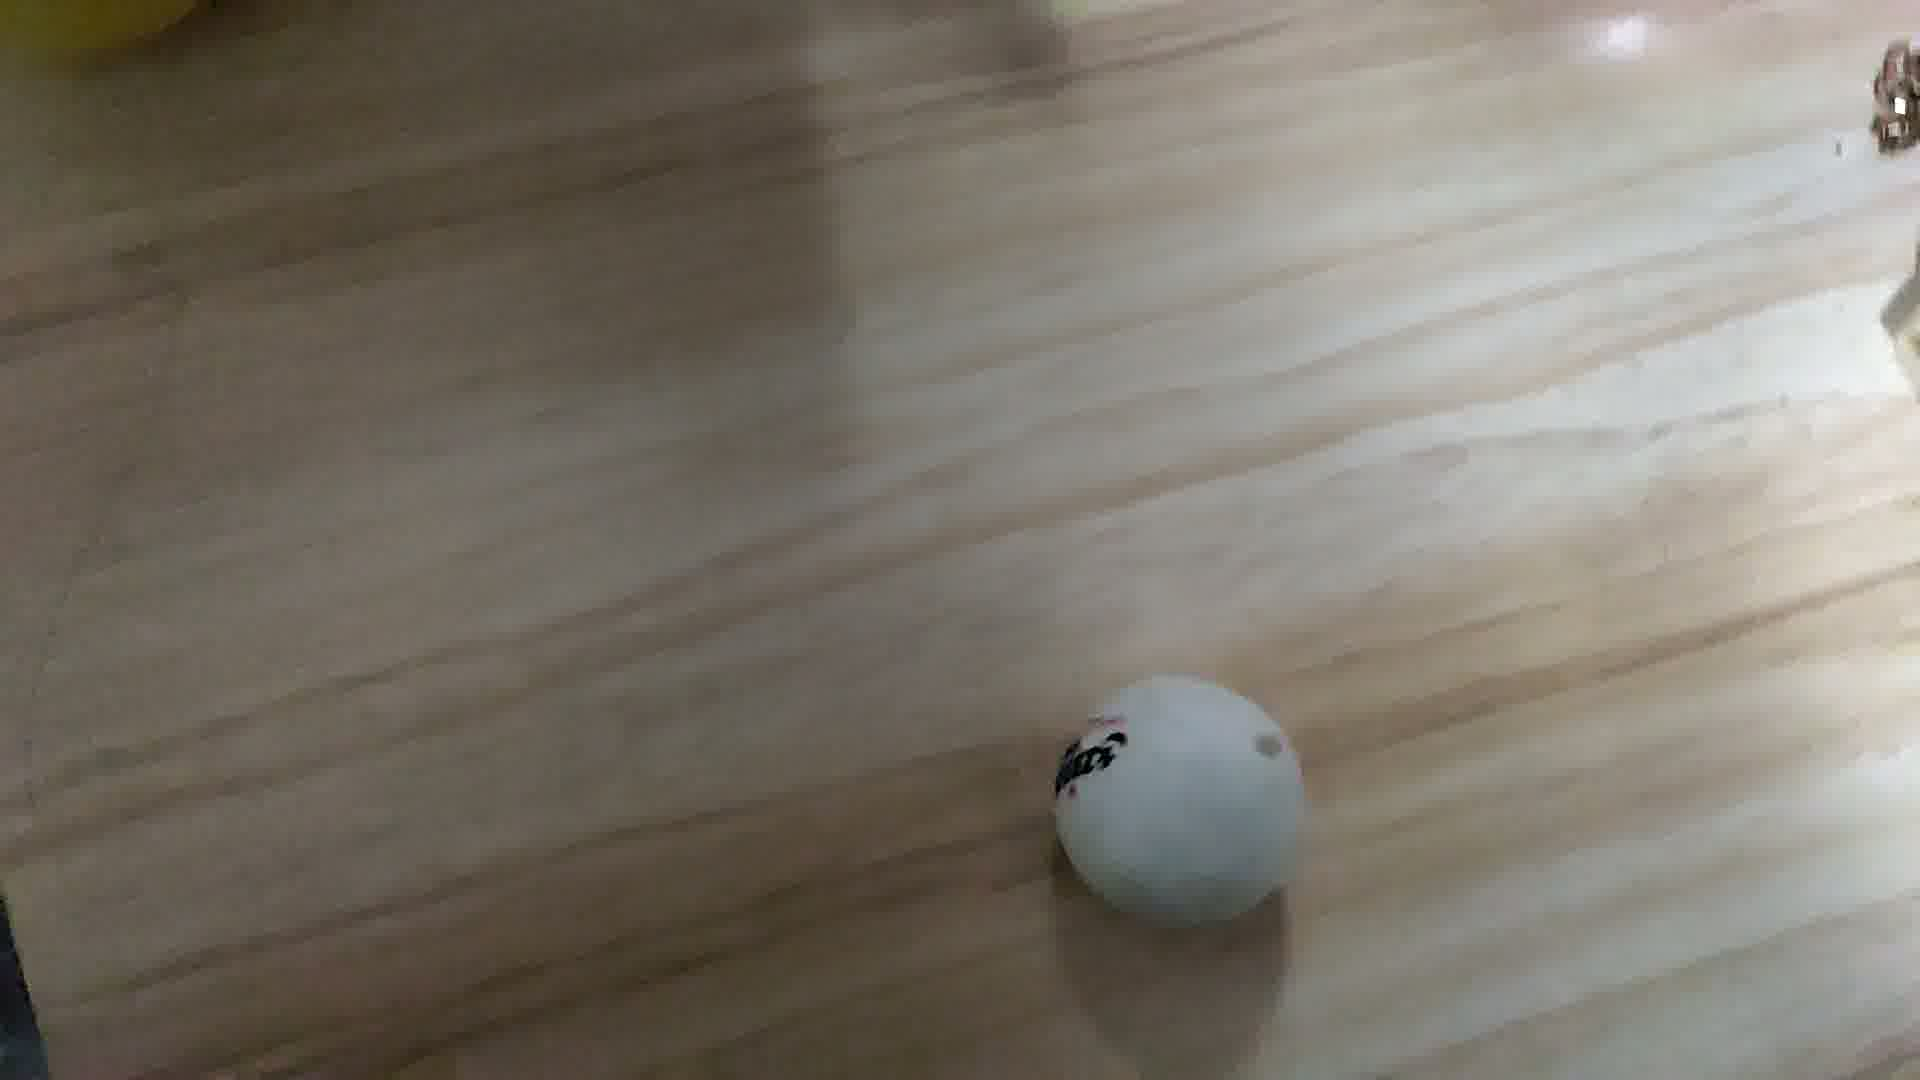Ball: (1046, 674, 1313, 935)
